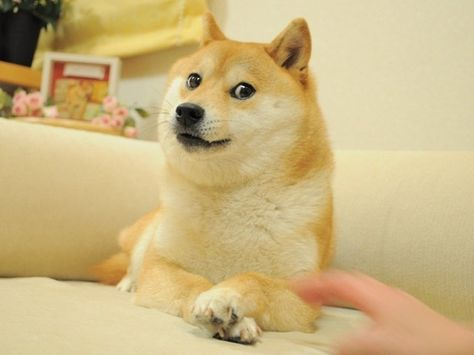doge: (139, 13, 334, 194)
